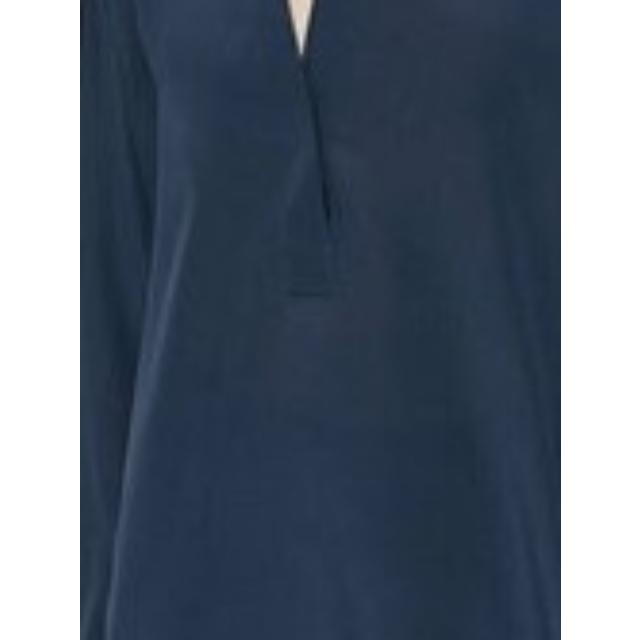silk: (80, 0, 560, 640)
